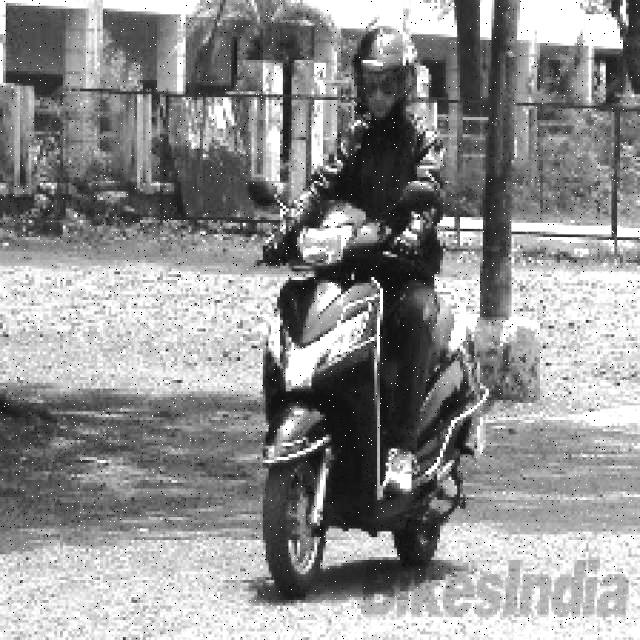Bike: (243, 196, 489, 636)
